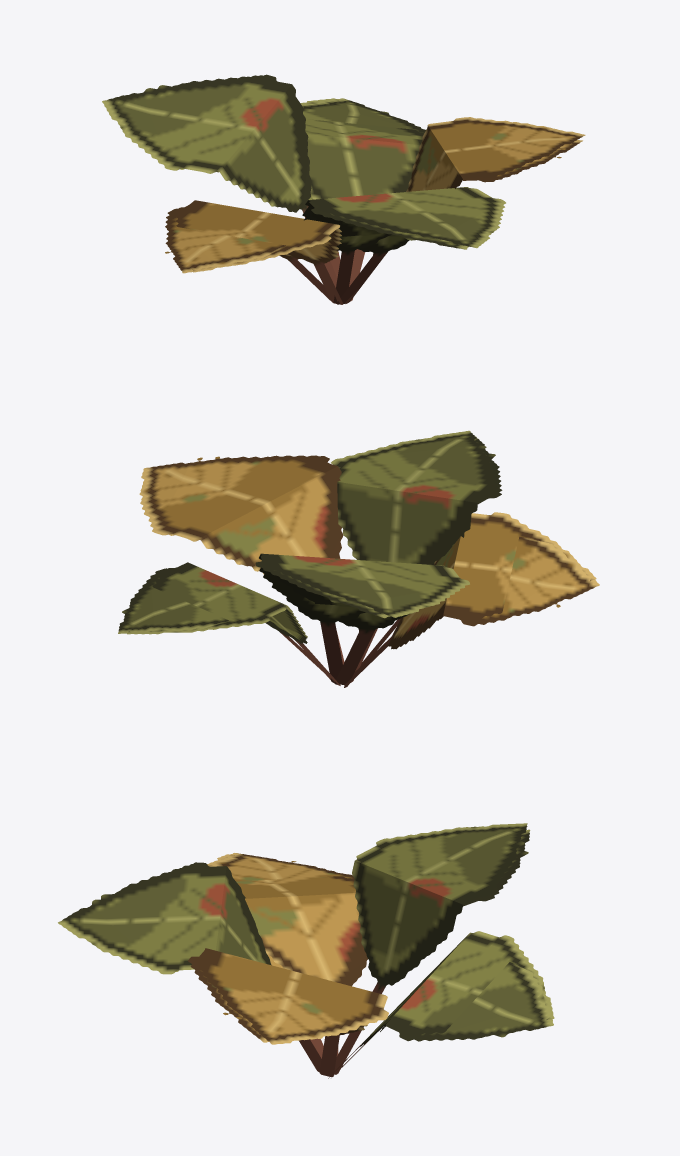
Rendered from SM_VG11_BroadLeavesLow.fbx.
The picture shows the model from 3 angles, top to bottom: view 1: azimuth 30°, elevation 25°; view 2: azimuth 150°, elevation 25°; view 3: azimuth 270°, elevation 25°; orthographic projection. The views are drawn at different scales.
Visible parts, largest first — view 1: VG11_Leaves; view 2: VG11_Leaves; view 3: VG11_Leaves.
Boxes of the visible parts, box(x1,y1,x2,y2) form: VG11_Leaves: box(102, 74, 585, 304); VG11_Leaves: box(118, 430, 599, 687); VG11_Leaves: box(58, 823, 554, 1078).
Bounding box in the file's own units: 0.6195 × 0.2162 × 0.5984.
